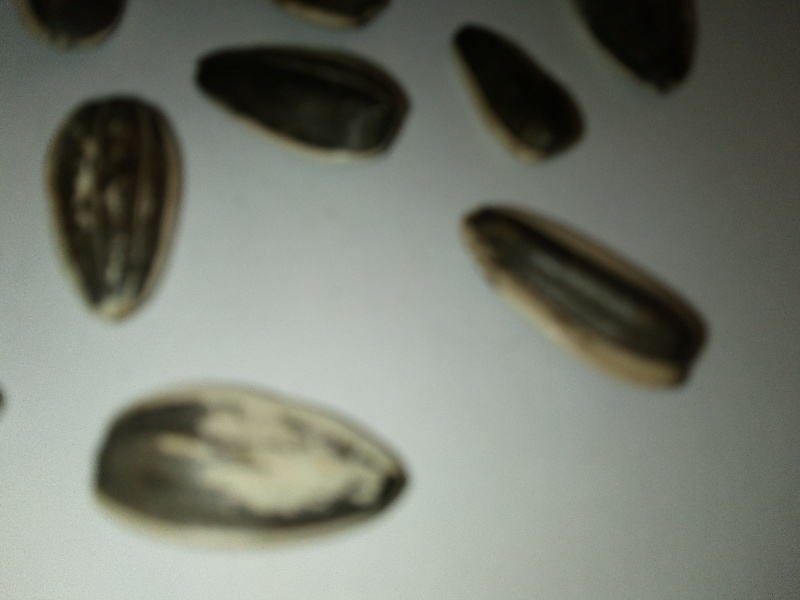w: (75, 353, 425, 562), (446, 197, 736, 406), (35, 92, 197, 337)
